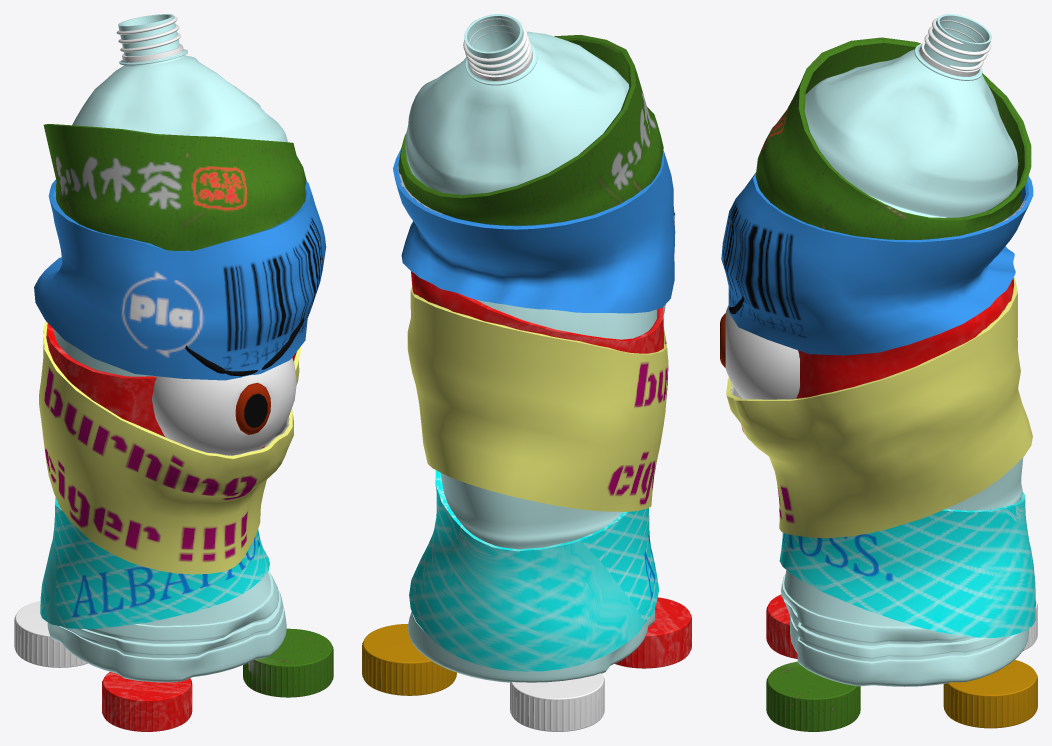
Rendered from pipetto.fbx.
3 views of the same model, side by side, from view 1: azimuth 30°, elevation 25°; view 2: azimuth 150°, elevation 25°; view 3: azimuth 270°, elevation 25° (orthographic). The views are drawn at different scales.
Parts seen in each view (by area): view 1: polySurface12, polySurface14, polySurface11, polySurface10, polySurface13, polySurface3, polySurface20, polySurface22, polySurface15, polySurface21, polySurface16, polySurface7; view 2: polySurface14, polySurface11, polySurface13, polySurface12, polySurface10, polySurface21, polySurface18, polySurface15, polySurface22, polySurface16; view 3: polySurface11, polySurface14, polySurface12, polySurface13, polySurface10, polySurface15, polySurface20, polySurface18, polySurface3, polySurface22, polySurface16.
Part boxes in pixels (x1=…): polySurface12: x1=34, y1=179, x2=326, y2=380; polySurface14: x1=39, y1=321, x2=301, y2=574; polySurface11: x1=47, y1=14, x2=287, y2=682; polySurface10: x1=43, y1=124, x2=306, y2=250; polySurface13: x1=40, y1=497, x2=269, y2=628; polySurface3: x1=152, y1=358, x2=296, y2=455; polySurface20: x1=243, y1=628, x2=333, y2=697; polySurface22: x1=102, y1=672, x2=192, y2=731; polySurface15: x1=46, y1=323, x2=296, y2=448; polySurface21: x1=14, y1=601, x2=87, y2=667; polySurface16: x1=116, y1=16, x2=180, y2=52; polySurface7: x1=185, y1=318, x2=304, y2=376; polySurface14: x1=407, y1=286, x2=668, y2=511; polySurface11: x1=405, y1=14, x2=657, y2=682; polySurface13: x1=409, y1=470, x2=658, y2=671; polySurface12: x1=393, y1=148, x2=675, y2=313; polySurface10: x1=398, y1=35, x2=663, y2=225; polySurface21: x1=510, y1=673, x2=604, y2=731; polySurface18: x1=362, y1=624, x2=456, y2=695; polySurface15: x1=411, y1=271, x2=663, y2=353; polySurface22: x1=615, y1=597, x2=691, y2=668; polySurface16: x1=463, y1=18, x2=530, y2=74; polySurface11: x1=781, y1=14, x2=1028, y2=686; polySurface14: x1=726, y1=277, x2=1032, y2=538; polySurface12: x1=721, y1=172, x2=1033, y2=355; polySurface13: x1=779, y1=492, x2=1035, y2=637; polySurface10: x1=755, y1=37, x2=1031, y2=239; polySurface15: x1=796, y1=278, x2=1014, y2=398; polySurface20: x1=766, y1=661, x2=860, y2=731; polySurface18: x1=943, y1=660, x2=1037, y2=728; polySurface3: x1=720, y1=305, x2=799, y2=399; polySurface22: x1=766, y1=594, x2=797, y2=658; polySurface16: x1=924, y1=18, x2=991, y2=70.
Bounding box in the file's own units: 17.49 × 44.59 × 19.55.
1 material, 1 textured.
